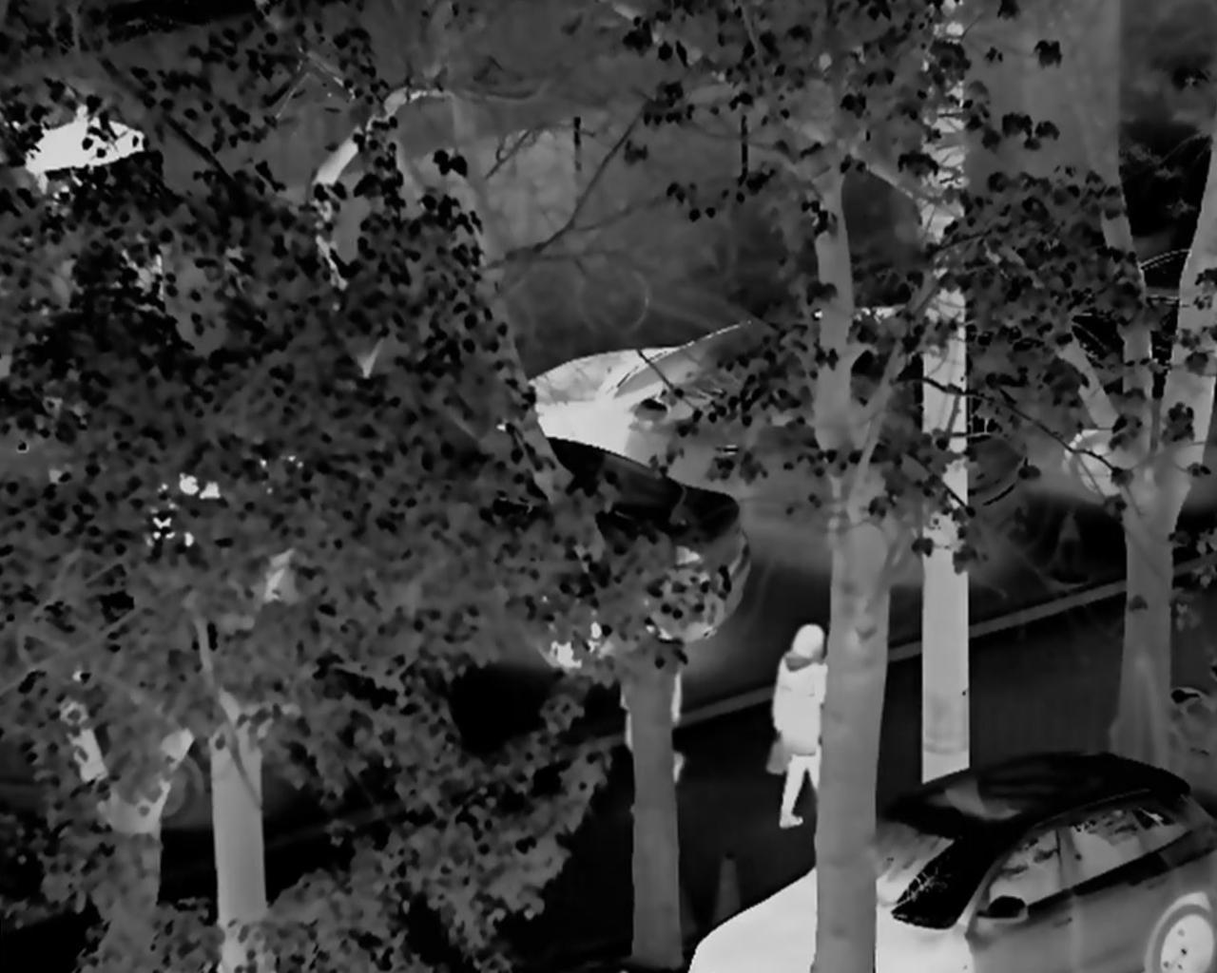person: (751, 622, 839, 842), (617, 632, 686, 822)
